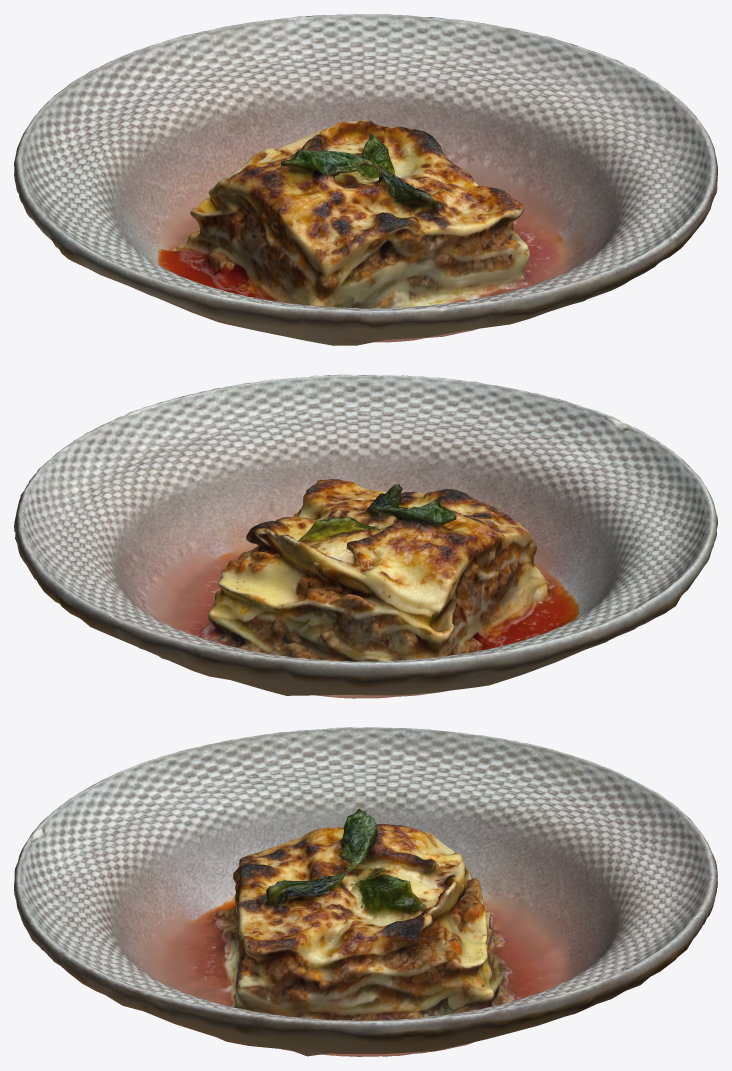
Rendered from lazanya.glb.
3 views of the same model, one above another, from view 1: azimuth 30°, elevation 25°; view 2: azimuth 150°, elevation 25°; view 3: azimuth 270°, elevation 25° (orthographic).
Size of the model in its own units: 1.05 by 0.2238 by 1.04.
Materials: 1 (1 with a texture image).
